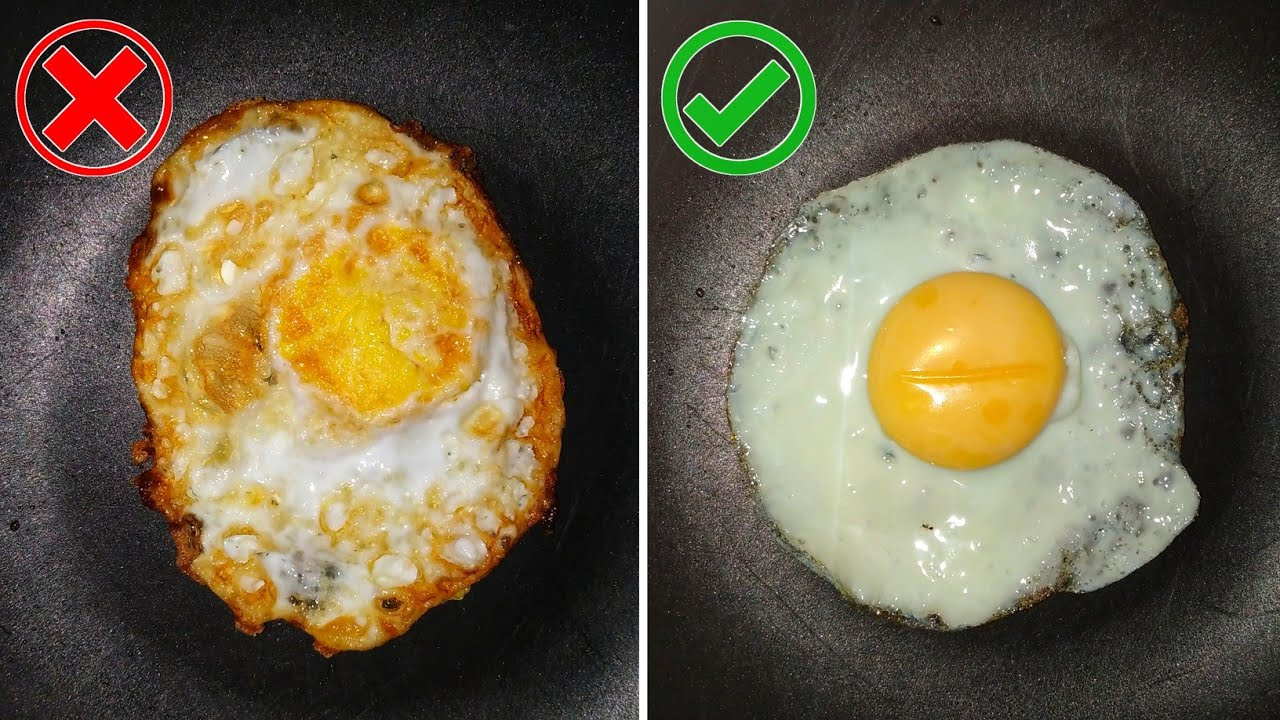Telur: (114, 36, 554, 616), (767, 133, 1185, 644)
